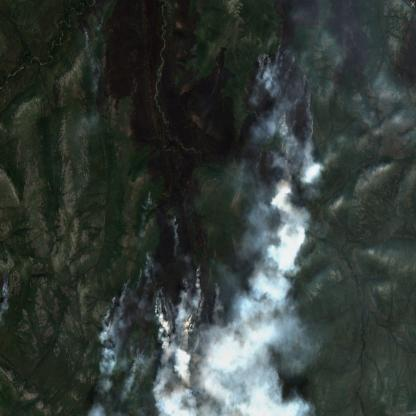fire: (105, 269, 136, 312), (147, 278, 180, 318), (255, 40, 296, 72), (276, 103, 296, 129), (306, 86, 316, 132), (170, 211, 181, 239), (142, 247, 154, 270), (213, 276, 224, 298), (192, 258, 203, 278), (143, 187, 155, 205)
